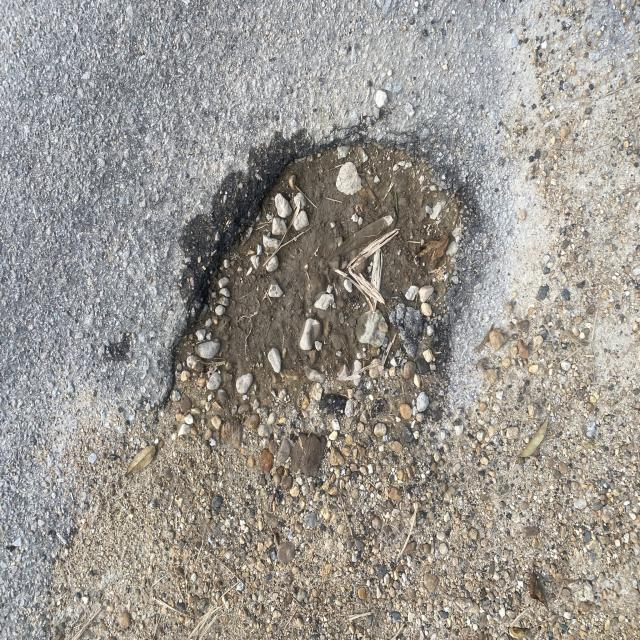pothole: (111, 78, 519, 495)
